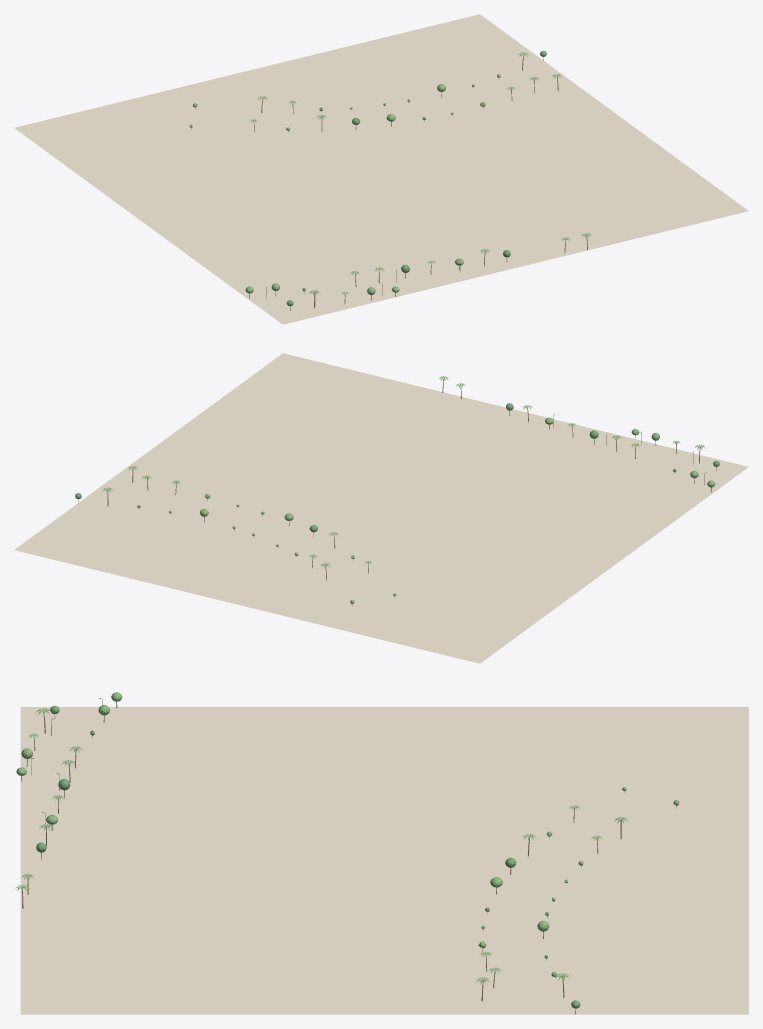
File: nature_4_-6.glb
The picture shows the model from 3 angles, top to bottom: view 1: azimuth 30°, elevation 25°; view 2: azimuth 150°, elevation 25°; view 3: azimuth 270°, elevation 25°; orthographic projection. The views are drawn at different scales.
Parts seen in each view (by area): view 1: ground, foliage_b; view 2: ground, foliage_b; view 3: ground, foliage_b, palm_leaf, trunk.
Part boxes in pixels (x1,y1,x2,y2): ground: (14,14,748,324); foliage_b: (189,74,500,295); ground: (14,353,748,663); foliage_b: (137,417,715,604); ground: (20,707,748,1014); foliage_b: (16,692,679,976); palm_leaf: (14,708,627,984); trunk: (21,702,676,1014).
Size of the model in its own units: 252 by 8.82 by 252.
